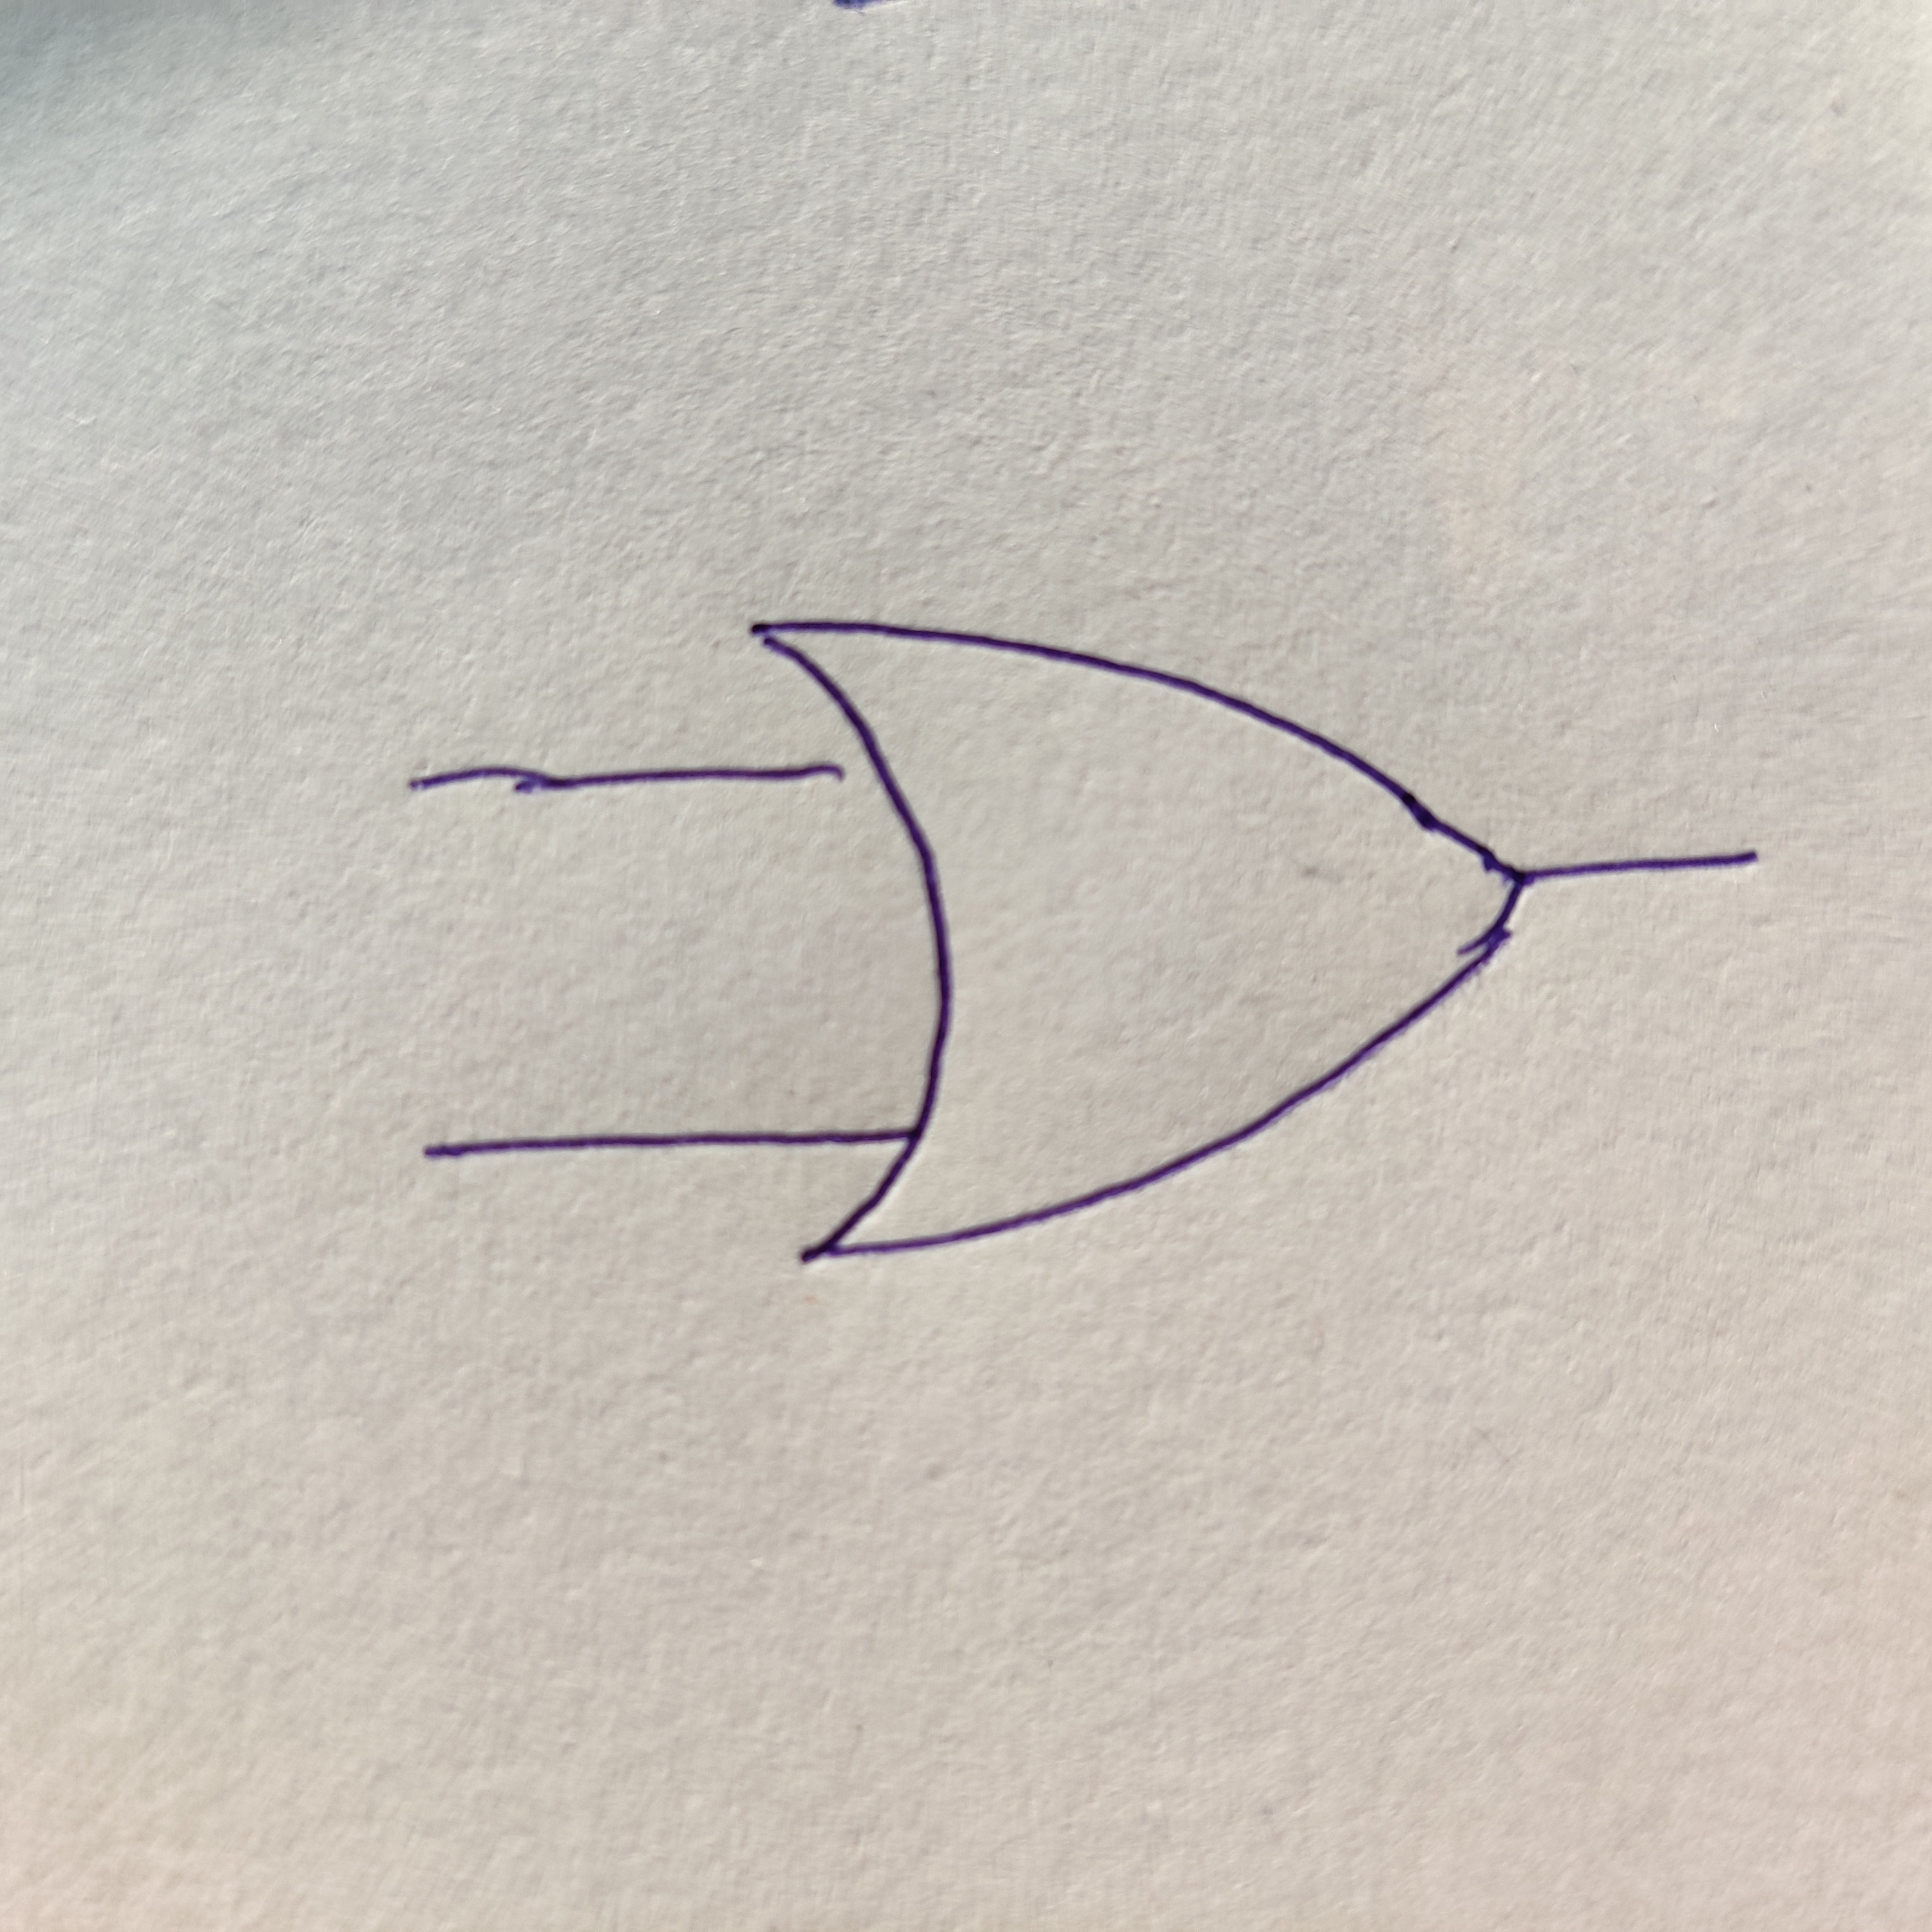or: (754, 619, 1523, 1254)
